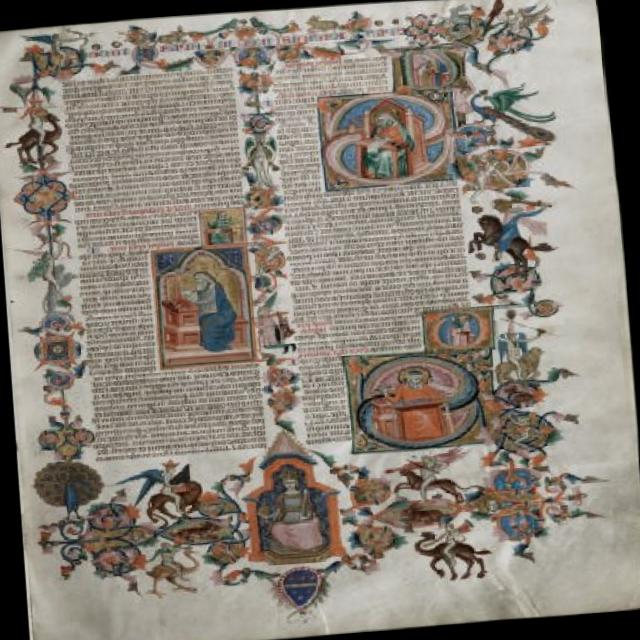Person: (250, 465, 328, 571), (384, 370, 452, 443), (181, 271, 240, 352), (361, 111, 415, 182)
